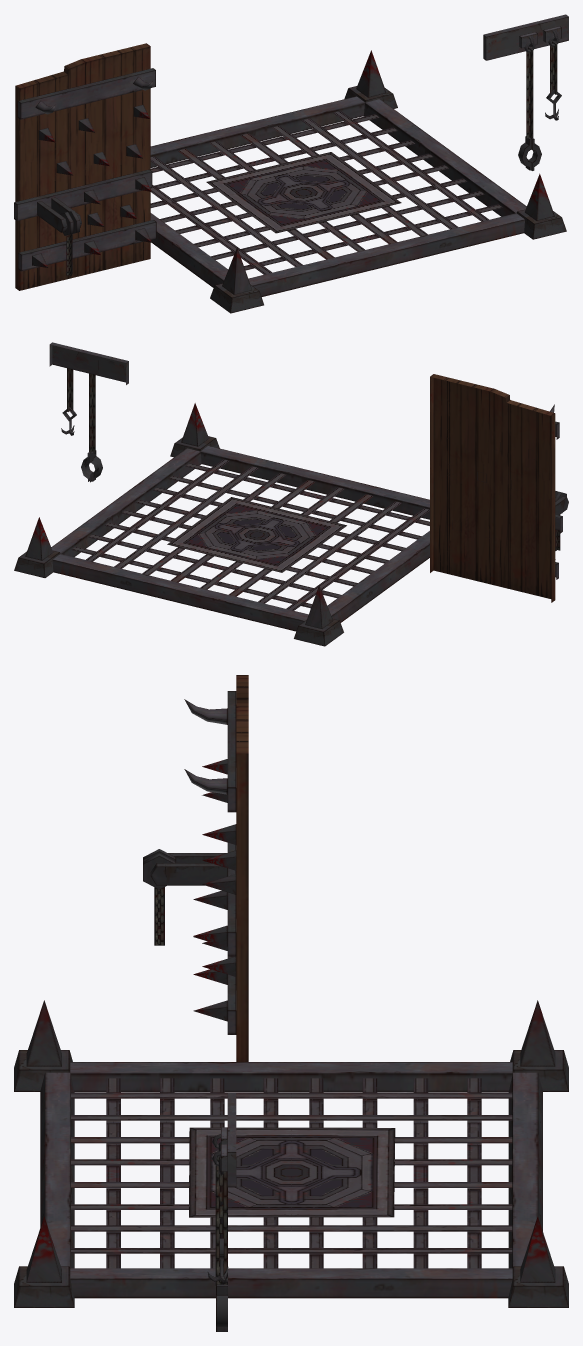
The model's file is 2_DG_MenDiLouXingJu_01.FBX.
The picture shows the model from 3 angles, top to bottom: view 1: azimuth 30°, elevation 25°; view 2: azimuth 150°, elevation 25°; view 3: azimuth 270°, elevation 25°; orthographic projection. The views are drawn at different scales.
Parts seen in each view (by area): view 1: 2_DG_DiLou_01, 2_DG_TieCIMen_01, 2_DG_XingJu_02_01, 2_DG_XingJu_02_02, 2_DG_XingJu_02_03; view 2: 2_DG_DiLou_01, 2_DG_TieCIMen_01, 2_DG_XingJu_02_01, 2_DG_XingJu_02_02, 2_DG_XingJu_02_03; view 3: 2_DG_DiLou_01, 2_DG_TieCIMen_01, 2_DG_XingJu_02_03, 2_DG_XingJu_02_02, 2_DG_XingJu_02_01.
Part boxes in pixels (x1,y1,x2,y2): 2_DG_DiLou_01: (150,50,566,313); 2_DG_TieCIMen_01: (14,43,156,290); 2_DG_XingJu_02_01: (483,14,568,60); 2_DG_XingJu_02_02: (518,32,541,170); 2_DG_XingJu_02_03: (543,26,561,120); 2_DG_DiLou_01: (14,403,429,646); 2_DG_TieCIMen_01: (430,374,568,602); 2_DG_XingJu_02_01: (49,342,128,384); 2_DG_XingJu_02_02: (81,360,102,482); 2_DG_XingJu_02_03: (61,368,76,435); 2_DG_DiLou_01: (14,1000,568,1307); 2_DG_TieCIMen_01: (143,675,248,1061); 2_DG_XingJu_02_03: (207,1144,228,1283); 2_DG_XingJu_02_02: (212,1127,227,1331); 2_DG_XingJu_02_01: (227,1093,236,1187).
Bounding box in the file's own units: 1182 × 435 × 703.
